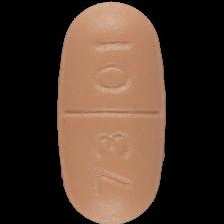63629-4073: (0, 0, 224, 224)
